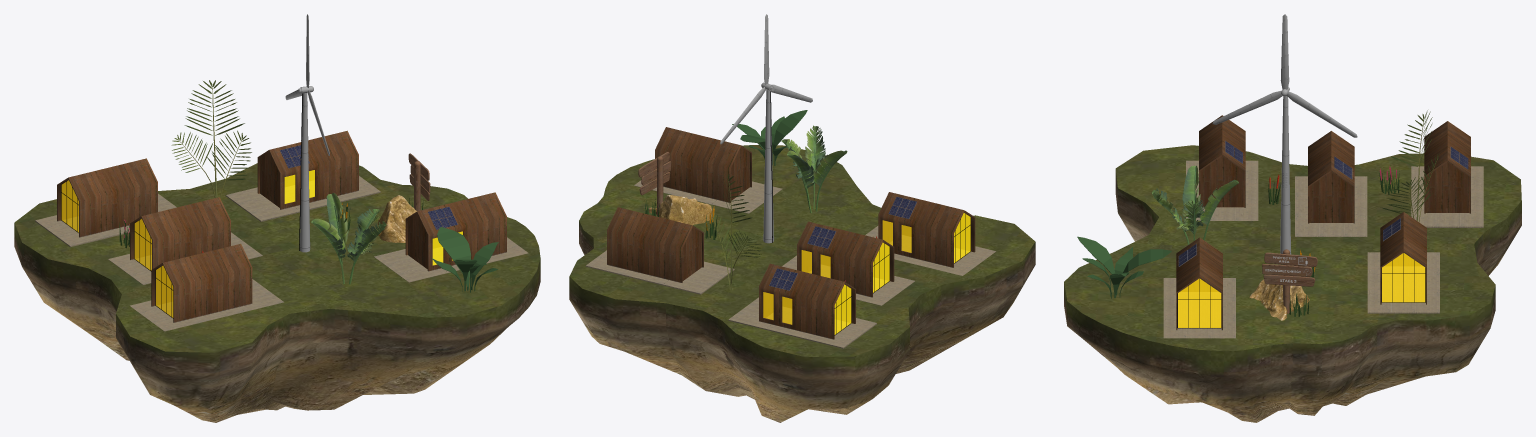
The model's file is ren-stg2.glb.
3 renders of one model, left to right at view 1: azimuth 30°, elevation 25°; view 2: azimuth 150°, elevation 25°; view 3: azimuth 270°, elevation 25°, orthographic. The views are drawn at different scales.
Parts seen in each view (by area): view 1: ISOLOTTI_GRP_isola_02_terra_geo_ISOLOTTI_002_GRP, casetta_geo_CASA_GRP.001, casetta_geo_CASA_GRP.005, casetta_geo_CASA_GRP.007, casetta_geo_CASA_GRP.003, casetta_geo_CASA_GRP.009, PLANTS_GRP_PLANT01_euterpePrecatoria_J_geo.002, PLANTS_GRP_PLANT03_murumuru_J_GEO.004, PALA_EOL_GRP, casetta_geo_CASA_GRP.008, Plants_B_1, casetta_geo_CASA_GRP.002 (+4 smaller); view 2: ISOLOTTI_GRP_isola_02_terra_geo_ISOLOTTI_002_GRP, casetta_geo_CASA_GRP.007, casetta_geo_CASA_GRP.005, casetta_geo_CASA_GRP.001, casetta_geo_CASA_GRP.009, casetta_geo_CASA_GRP.003, PALA_EOL_GRP, PLANTS_GRP_PLANT03_murumuru_J_GEO.004, casetta_geo_CASA_GRP.006, casetta_geo_CASA_GRP.008, casetta_geo_CASA_GRP.002, Rock_Sandstone-Photoscan_D_spring-summer-autumn (+4 smaller); view 3: ISOLOTTI_GRP_isola_02_terra_geo_ISOLOTTI_002_GRP, casetta_geo_CASA_GRP.003, casetta_geo_CASA_GRP.009, casetta_geo_CASA_GRP.005, casetta_geo_CASA_GRP.007, casetta_geo_CASA_GRP.001, casetta_geo_CASA_GRP.008, casetta_geo_CASA_GRP.010, PALA_EOL_GRP, casetta_geo_CASA_GRP.004, casetta_geo_CASA_GRP.006, PLANTS_GRP_PLANT03_murumuru_J_GEO.004 (+7 smaller).
Part boxes in pixels (x1,y1,x2,y2): ISOLOTTI_GRP_isola_02_terra_geo_ISOLOTTI_002_GRP: (14,163,540,422); casetta_geo_CASA_GRP.001: (151,243,252,322); casetta_geo_CASA_GRP.005: (57,158,157,237); casetta_geo_CASA_GRP.007: (257,130,358,209); casetta_geo_CASA_GRP.003: (130,197,230,271); casetta_geo_CASA_GRP.009: (405,192,506,271); PLANTS_GRP_PLANT01_euterpePrecatoria_J_geo.002: (171,80,251,197); PLANTS_GRP_PLANT03_murumuru_J_GEO.004: (311,193,386,284); PALA_EOL_GRP: (285,14,329,252); casetta_geo_CASA_GRP.008: (225,176,380,221); Plants_B_1: (431,227,498,292); casetta_geo_CASA_GRP.002: (129,279,283,331); ISOLOTTI_GRP_isola_02_terra_geo_ISOLOTTI_002_GRP: (569,145,1035,422); casetta_geo_CASA_GRP.007: (607,207,703,282); casetta_geo_CASA_GRP.005: (759,263,855,339); casetta_geo_CASA_GRP.001: (878,192,975,267); casetta_geo_CASA_GRP.009: (655,127,751,202); casetta_geo_CASA_GRP.003: (797,221,894,297); PALA_EOL_GRP: (720,14,812,243); PLANTS_GRP_PLANT03_murumuru_J_GEO.004: (781,125,847,212); casetta_geo_CASA_GRP.006: (728,297,876,348); casetta_geo_CASA_GRP.008: (585,250,734,294); casetta_geo_CASA_GRP.002: (865,226,995,275); Rock_Sandstone-Photoscan_D_spring-summer-autumn: (646,195,712,225); ISOLOTTI_GRP_isola_02_terra_geo_ISOLOTTI_002_GRP: (1064,145,1521,422); casetta_geo_CASA_GRP.003: (1308,131,1354,223); casetta_geo_CASA_GRP.009: (1176,237,1222,330); casetta_geo_CASA_GRP.005: (1424,121,1470,213); casetta_geo_CASA_GRP.007: (1380,212,1426,304); casetta_geo_CASA_GRP.001: (1199,115,1245,207); casetta_geo_CASA_GRP.008: (1367,252,1439,313); casetta_geo_CASA_GRP.010: (1163,278,1235,338); PALA_EOL_GRP: (1212,14,1357,254); casetta_geo_CASA_GRP.004: (1295,176,1367,236); casetta_geo_CASA_GRP.006: (1411,166,1483,227); PLANTS_GRP_PLANT03_murumuru_J_GEO.004: (1151,165,1238,244).
Size of the model in its own units: 4.86 by 4.32 by 4.57.
15 materials, 8 textured.
